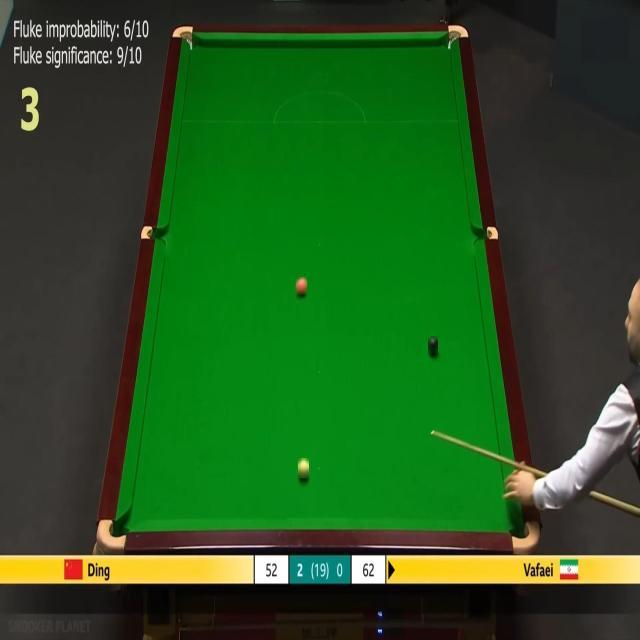Ball: (298, 458, 309, 478), (296, 277, 307, 294), (428, 336, 438, 354)
